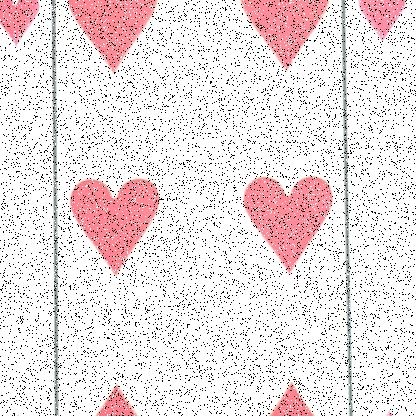6h: (336, 0, 415, 63), (0, 0, 58, 62)
